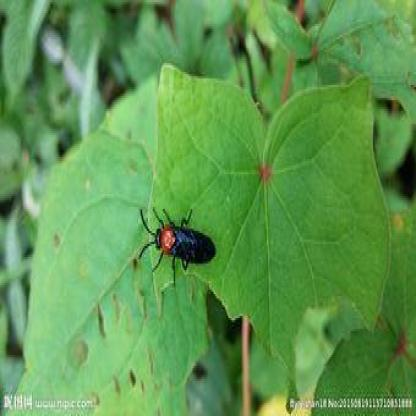sawfly: (136, 200, 218, 289)
